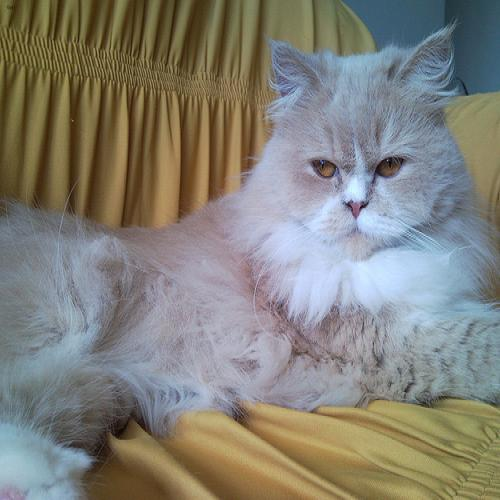persian: (254, 22, 473, 276)
